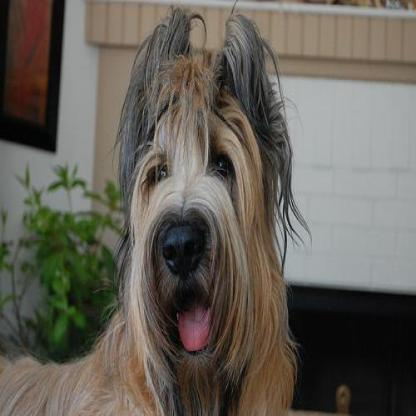briard: (0, 0, 313, 414)
